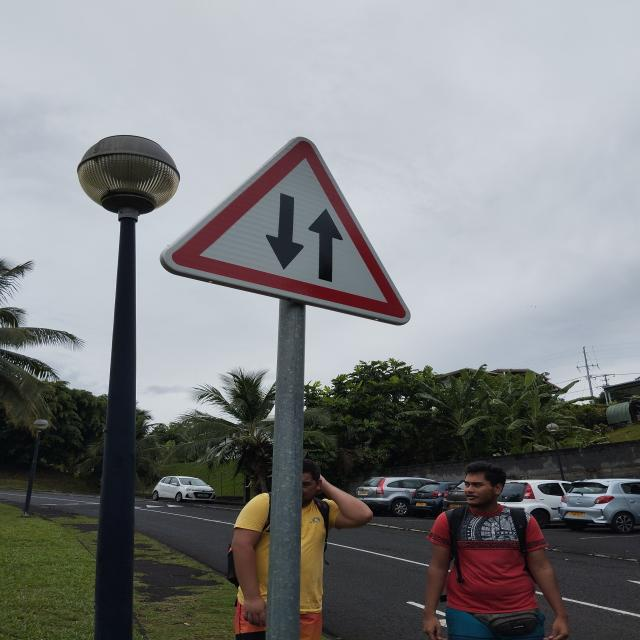Double-Sens: (156, 138, 419, 327)
